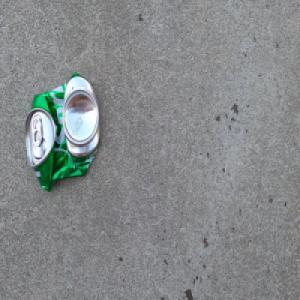SodaCan: (24, 70, 101, 193)
